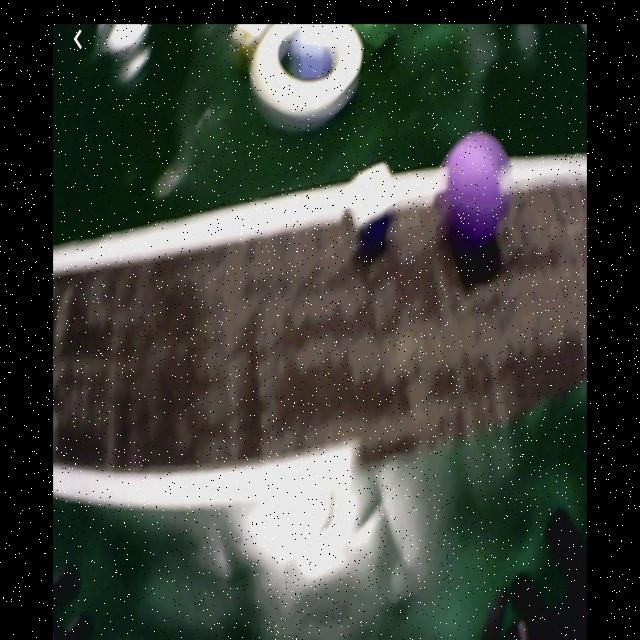ball: (447, 133, 510, 235)
